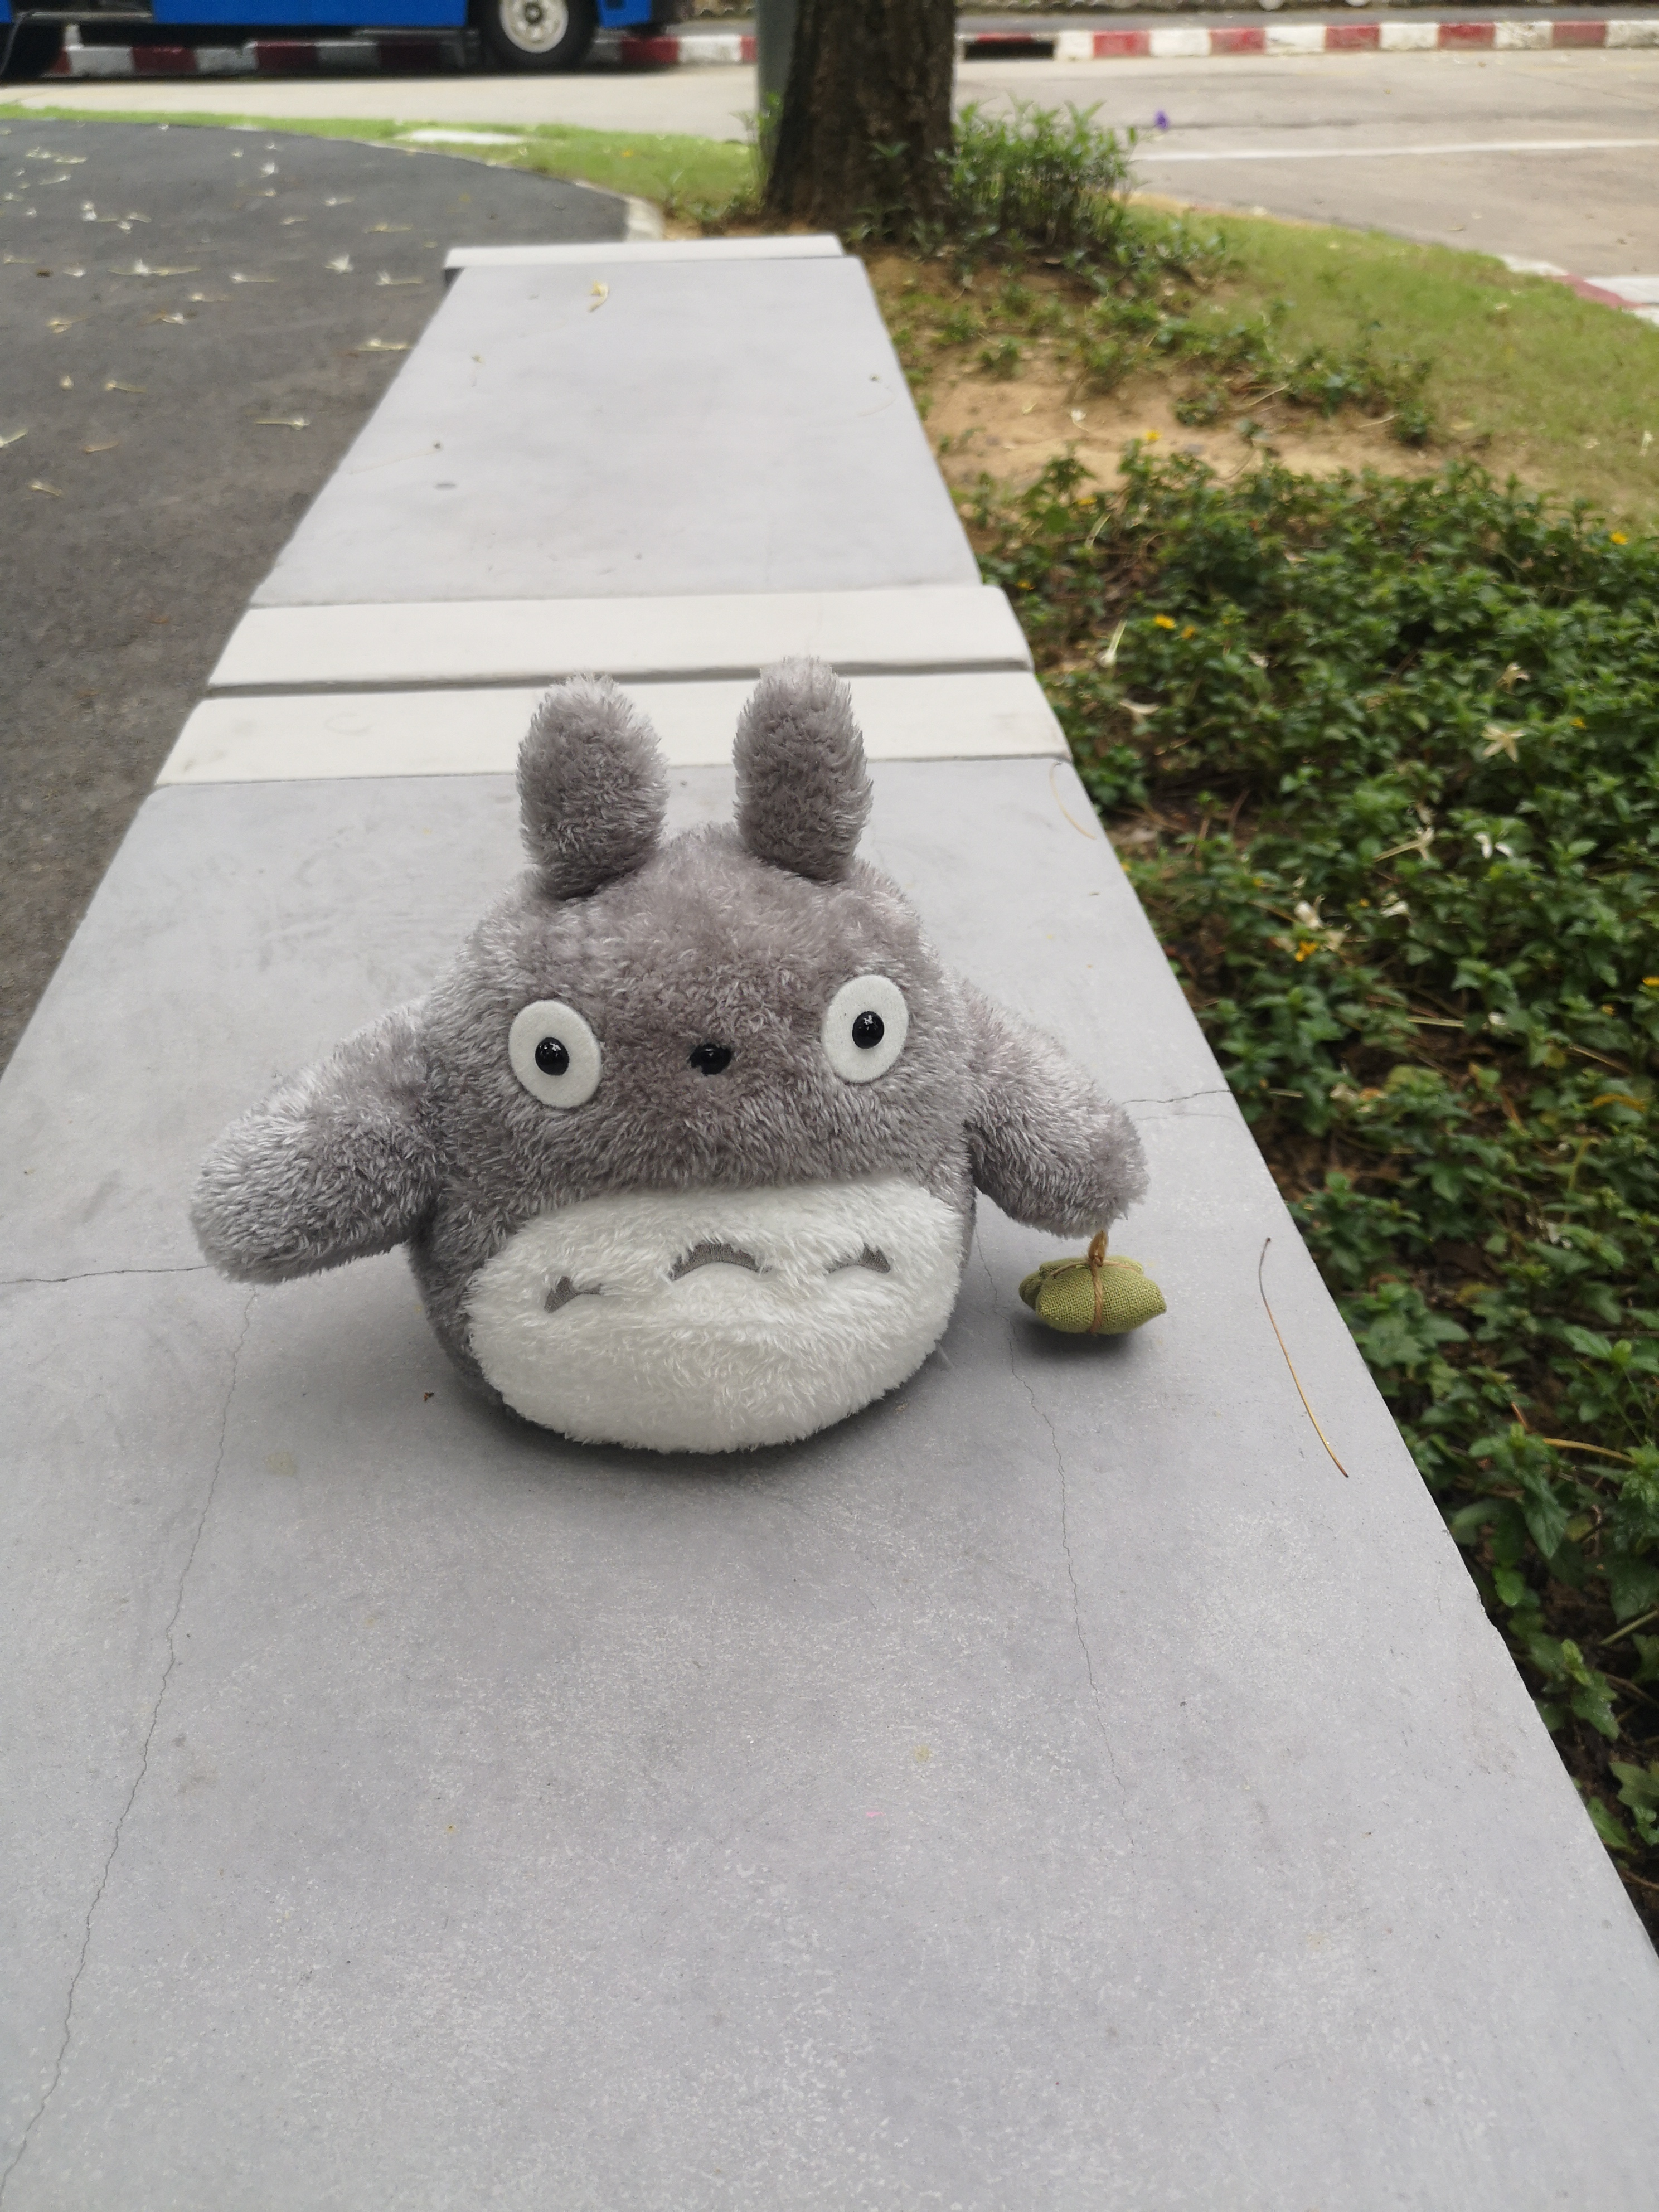totoro: (183, 657, 1180, 1484)
